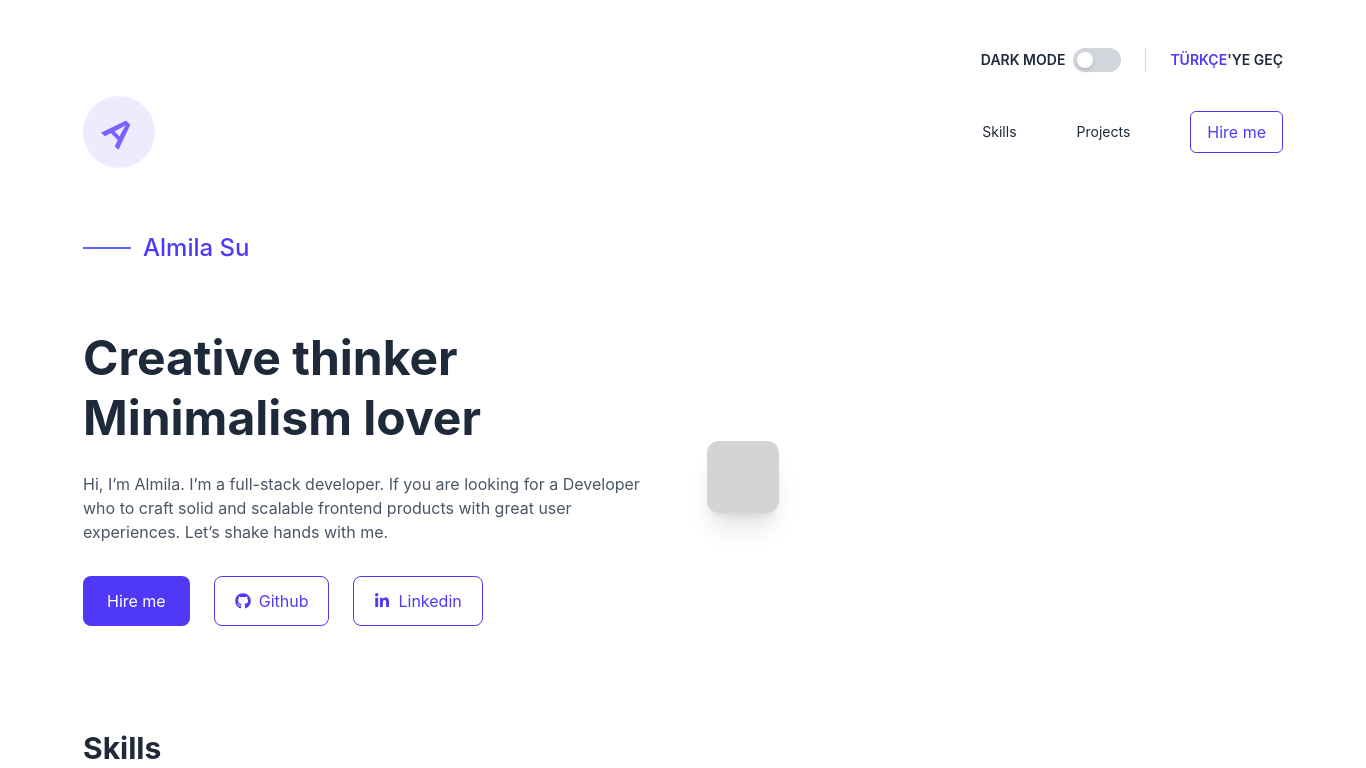
Test: Portfolio Interactivity Tests › should switch language and update content
Click the button "TÜRKÇE'YE GEÇ" at (1227, 60), box [1170,50,1283,70]
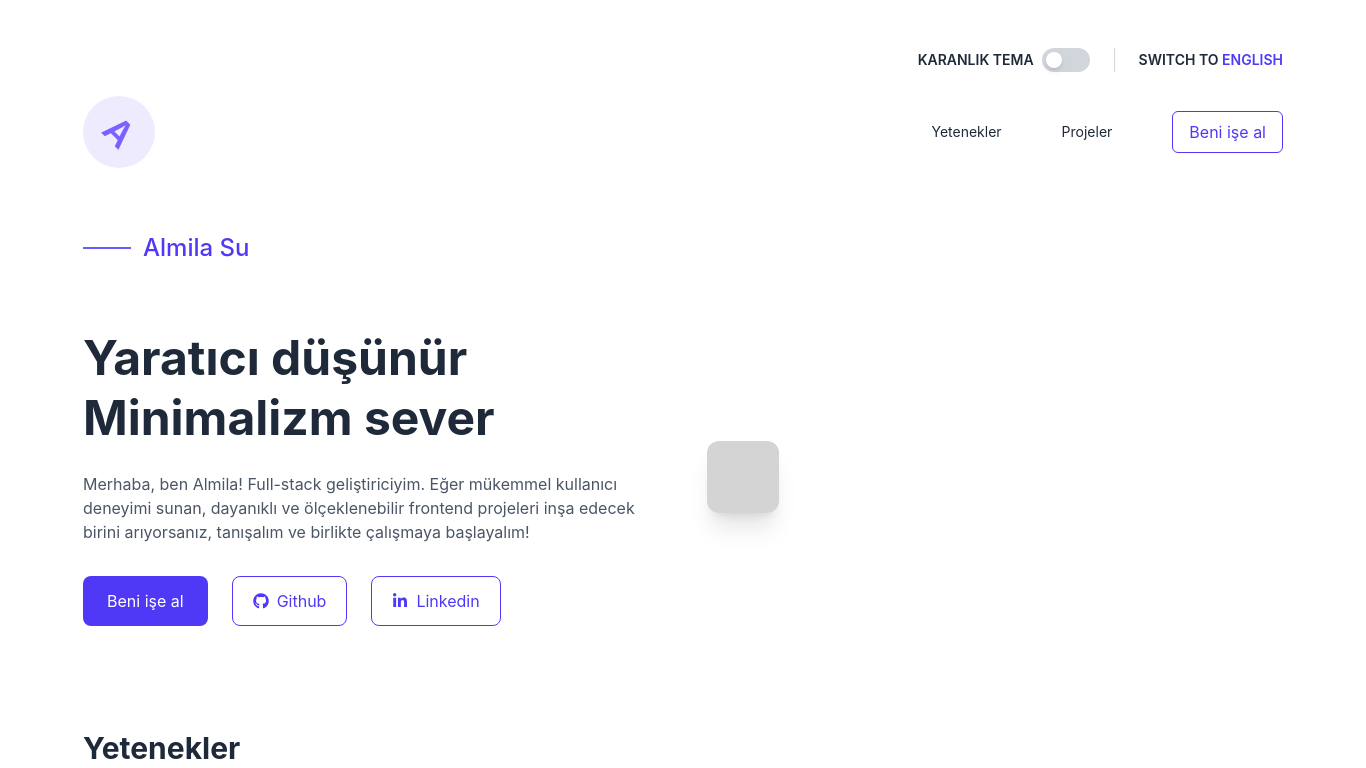
Result: the list item "Yetenekler" is shown at [932,122,1002,142]
Click the button "SWITCH TO ENGLISH" at (1211, 60), box [1139,50,1283,70]
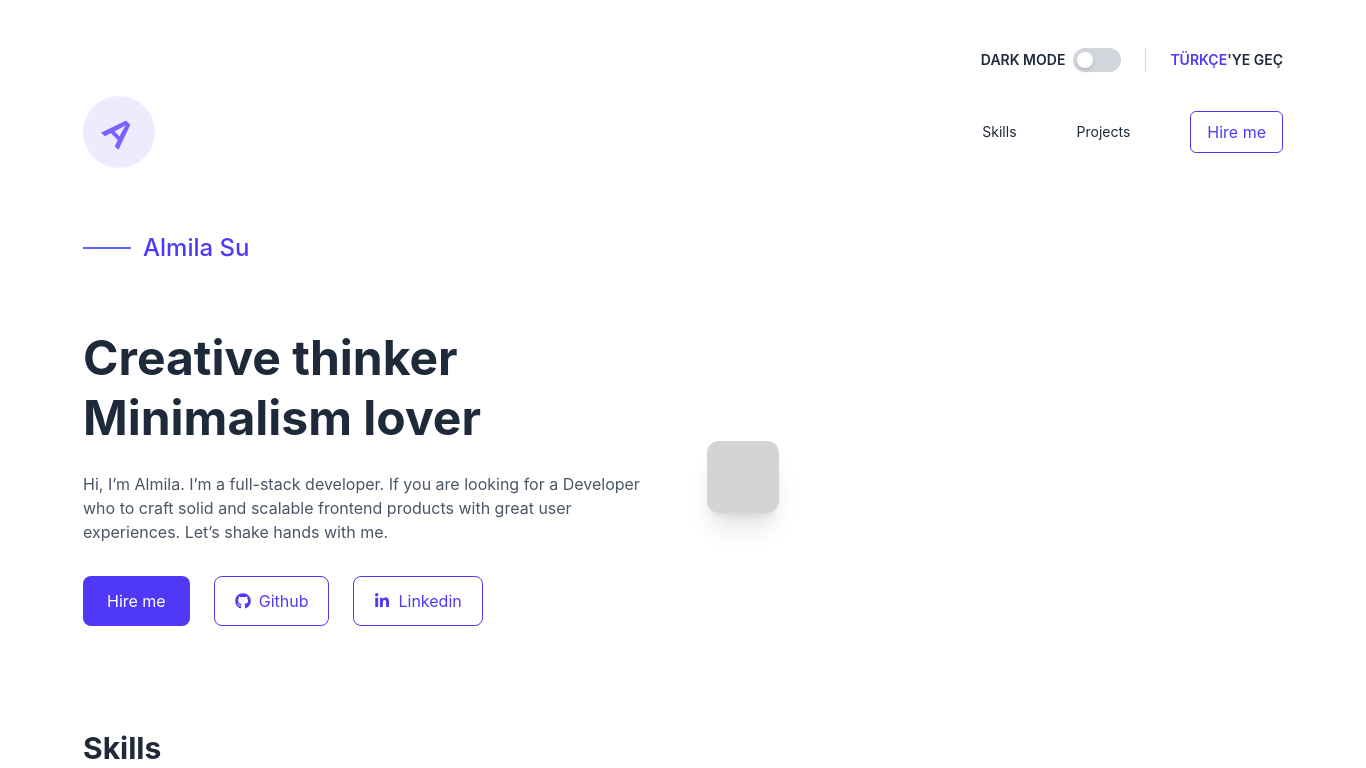
Result: the list item "Skills" is shown at [982,122,1016,142]
